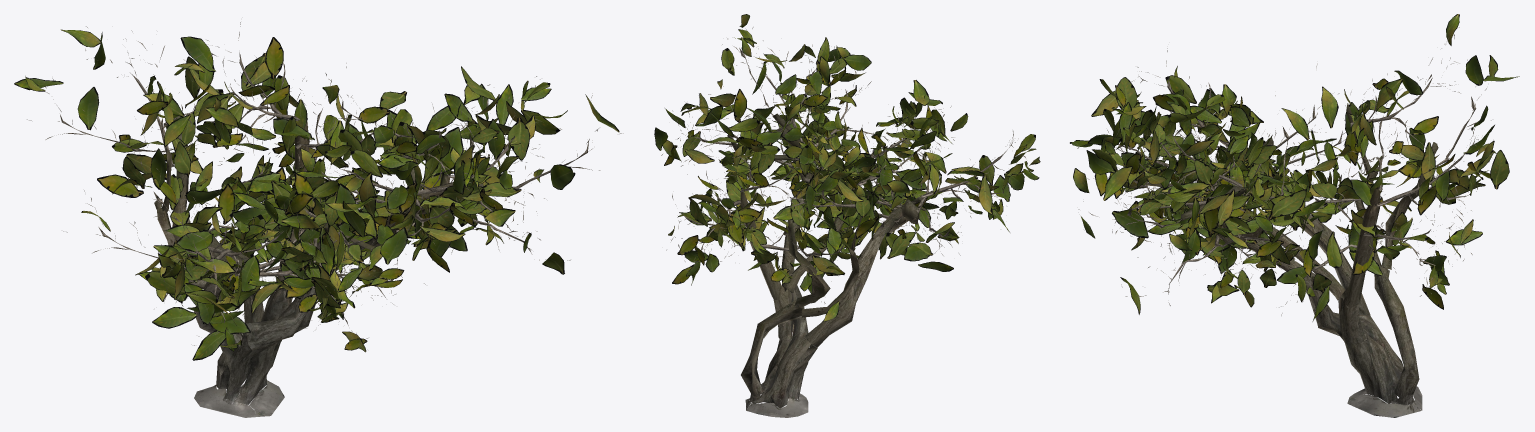
The model's file is island_tree_02.glb.
3 views of the same model, side by side, from view 1: azimuth 30°, elevation 25°; view 2: azimuth 150°, elevation 25°; view 3: azimuth 270°, elevation 25° (orthographic). The views are drawn at different scales.
Parts seen in each view (by area): view 1: island_tree_02_LOD0.002, island_tree_02_LOD0.001, island_tree_02_LOD0; view 2: island_tree_02_LOD0.002, island_tree_02_LOD0.001, island_tree_02_LOD0; view 3: island_tree_02_LOD0.002, island_tree_02_LOD0.001, island_tree_02_LOD0.
Boxes of the visible parts, x1,y1,x2,y2 form: island_tree_02_LOD0.002: (14, 29, 619, 360); island_tree_02_LOD0.001: (154, 121, 483, 417); island_tree_02_LOD0: (27, 22, 623, 348); island_tree_02_LOD0.002: (654, 14, 1040, 321); island_tree_02_LOD0.001: (727, 113, 926, 417); island_tree_02_LOD0: (661, 27, 1025, 306); island_tree_02_LOD0.002: (1070, 14, 1519, 321); island_tree_02_LOD0.001: (1145, 103, 1438, 417); island_tree_02_LOD0: (1077, 27, 1491, 318).
Bounding box in the file's own units: 4.12 × 3.34 × 4.17.
Materials: 3 (3 with a texture image).
